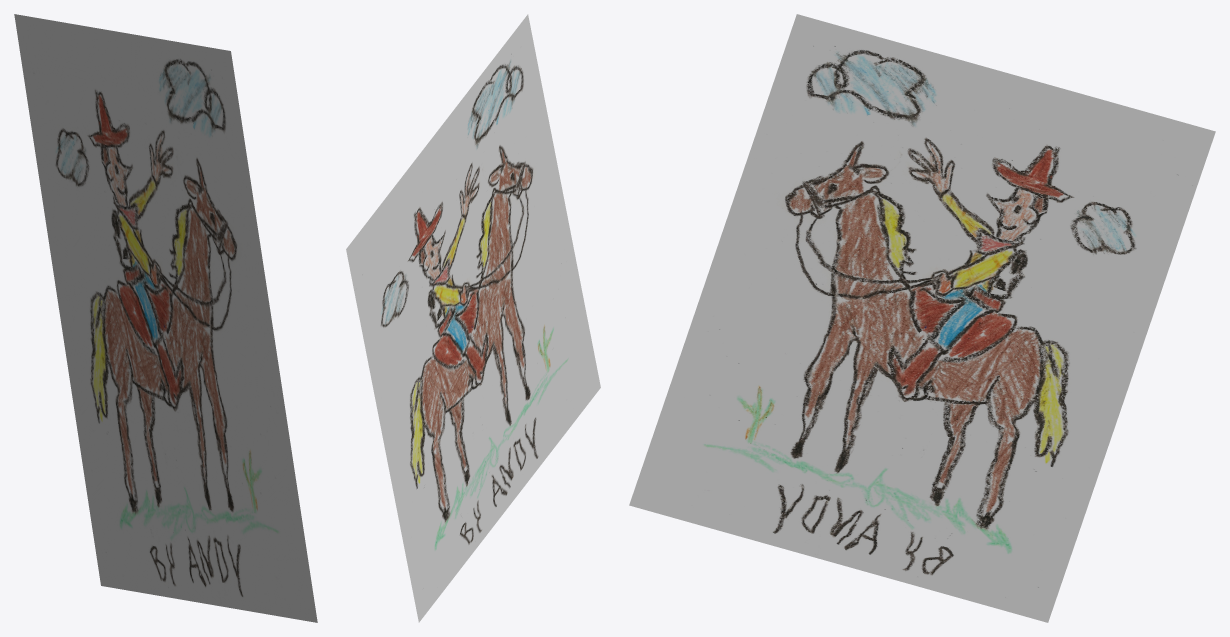
The model's file is poster2.fbx.
3 views of the same model, side by side, from view 1: azimuth 30°, elevation 25°; view 2: azimuth 150°, elevation 25°; view 3: azimuth 270°, elevation 25° (orthographic). The views are drawn at different scales.
Parts seen in each view (by area): view 1: Woody_Paper_Woody_Paper_texture_0; view 2: Woody_Paper_Woody_Paper_texture_0; view 3: Woody_Paper_Woody_Paper_texture_0.
Part boxes in pixels (bbox=[...]): Woody_Paper_Woody_Paper_texture_0: bbox=[14, 14, 317, 622]; Woody_Paper_Woody_Paper_texture_0: bbox=[346, 14, 600, 622]; Woody_Paper_Woody_Paper_texture_0: bbox=[629, 14, 1215, 622].
Size of the model in its own units: 0 by 2.9 by 3.32.
1 material, 1 textured.
